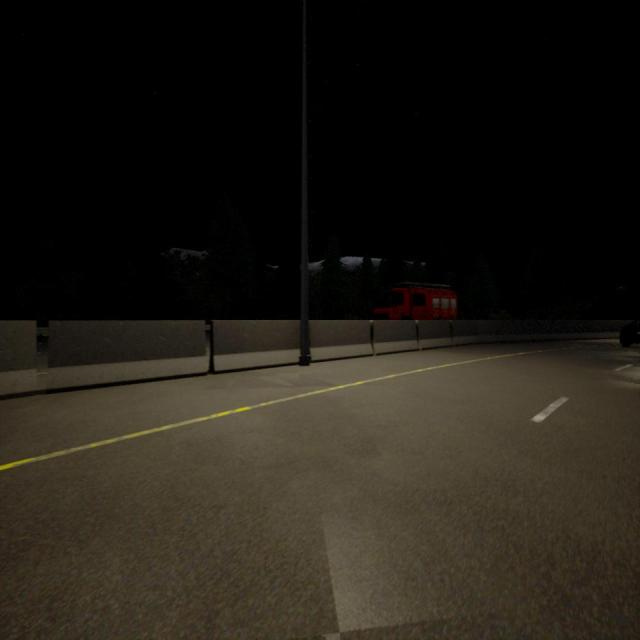Vehicle: (370, 282, 459, 320), (619, 316, 640, 348)
